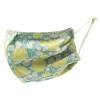cloth_mask: (4, 16, 100, 85)
